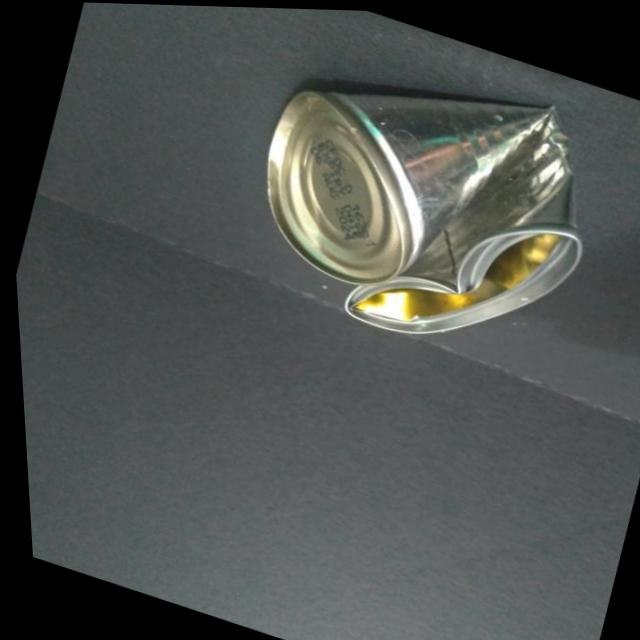metal: (248, 11, 639, 418)
